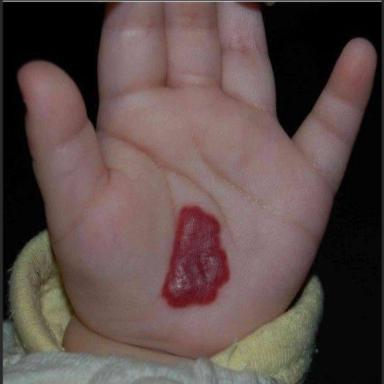Hemangiome: (163, 206, 229, 307)
